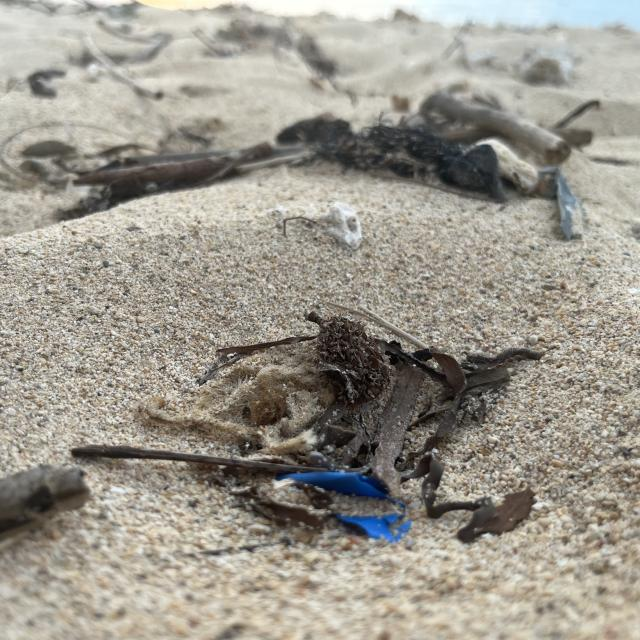seaweed: (80, 304, 530, 562)
trash: (274, 458, 450, 583)
